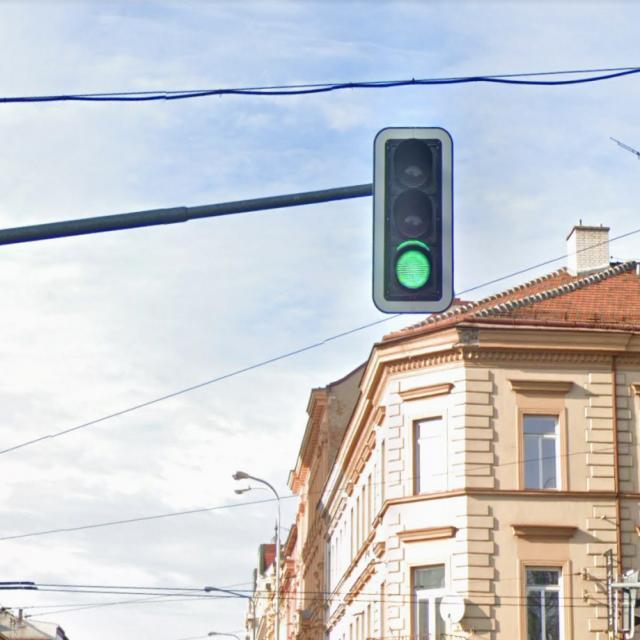green_light: (373, 125, 454, 313)
